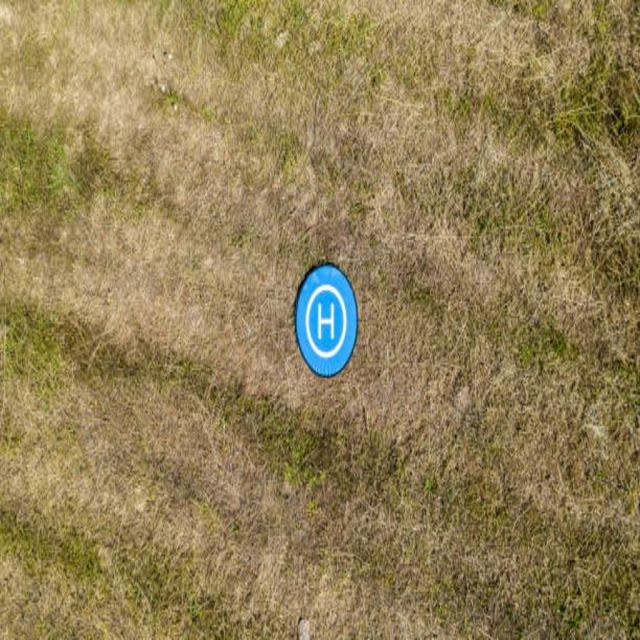helipad: (304, 282, 347, 358)
